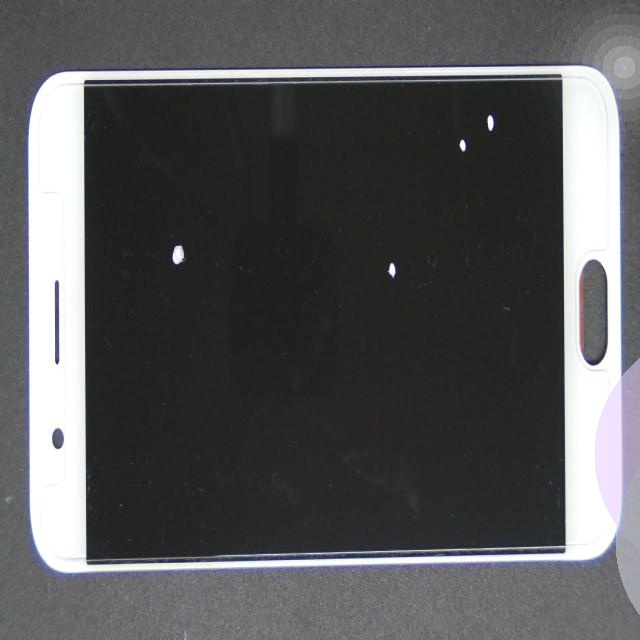stain: (193, 82, 569, 380), (211, 48, 640, 189), (106, 90, 268, 329)
